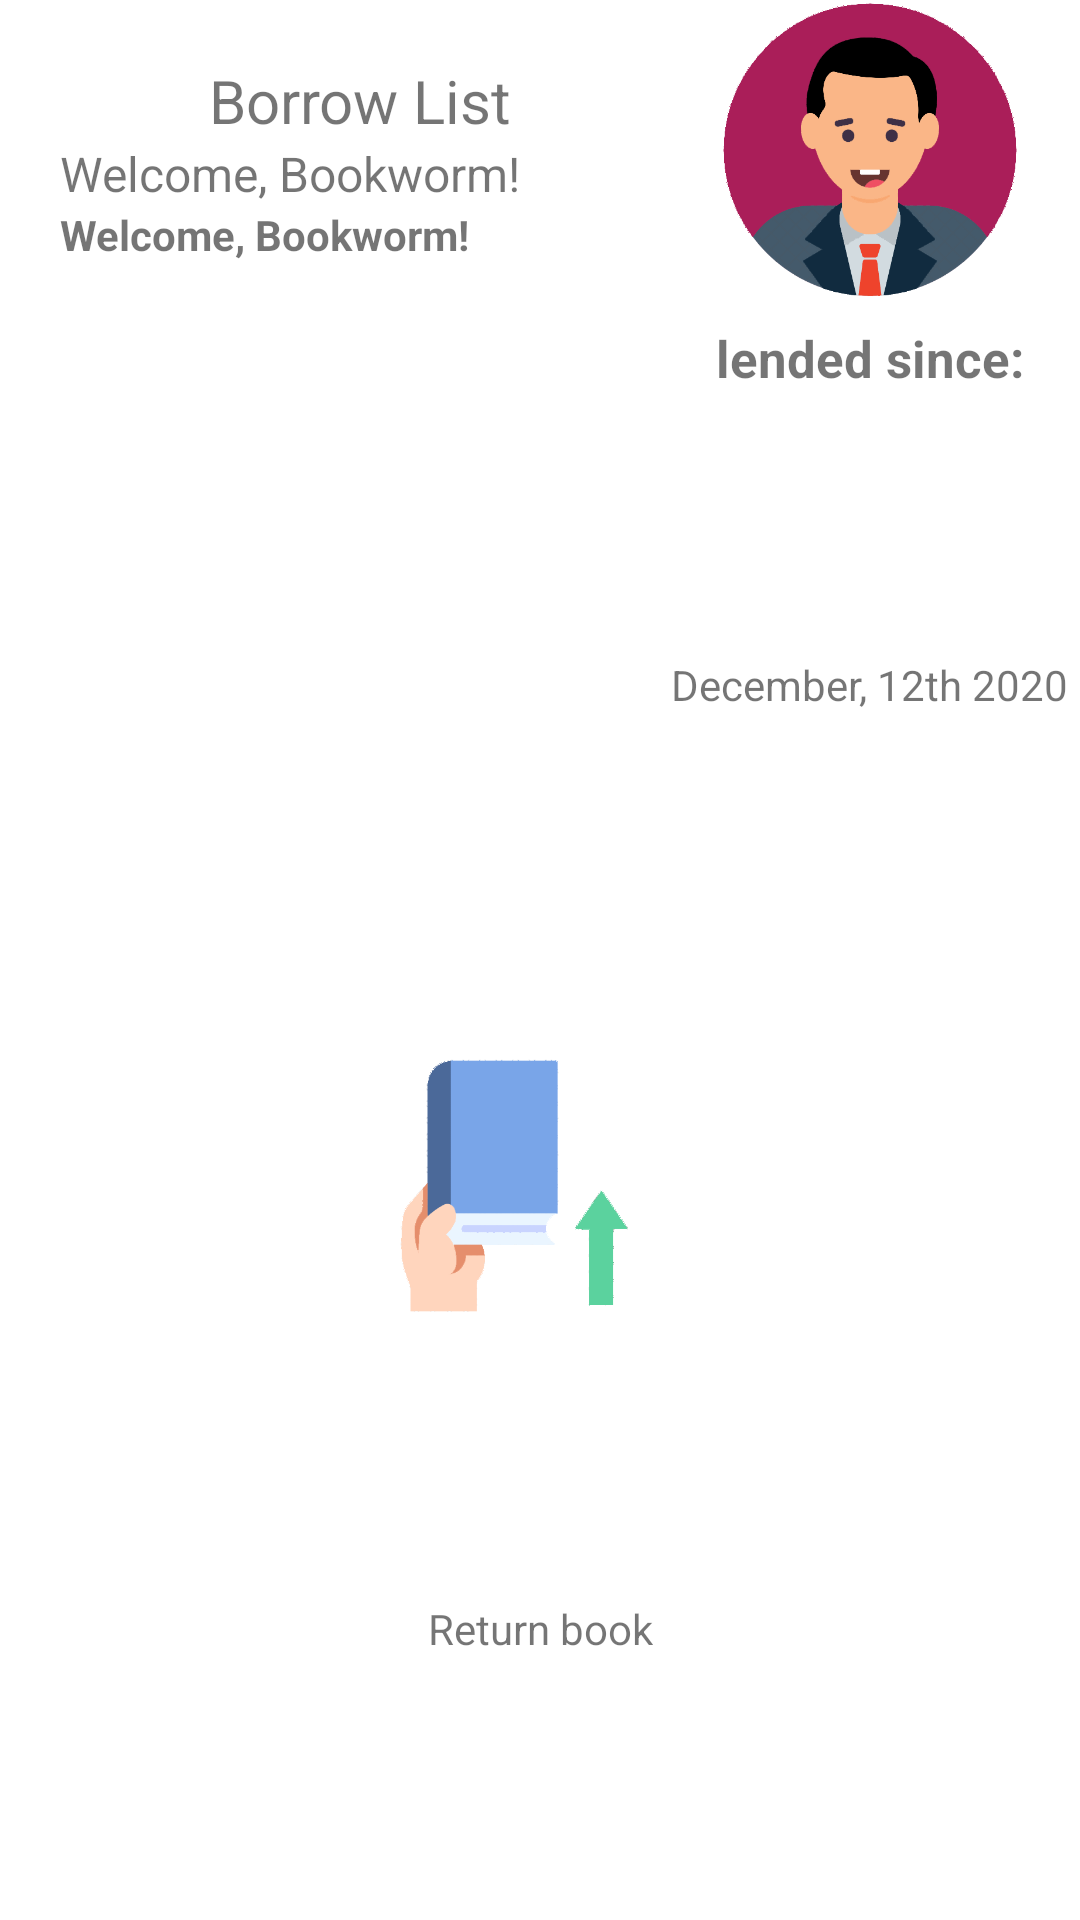

Icons on this 1080×1920 Android screen, each with the point to tap as (x=x, y=y):
return: (x=514, y=1186)
